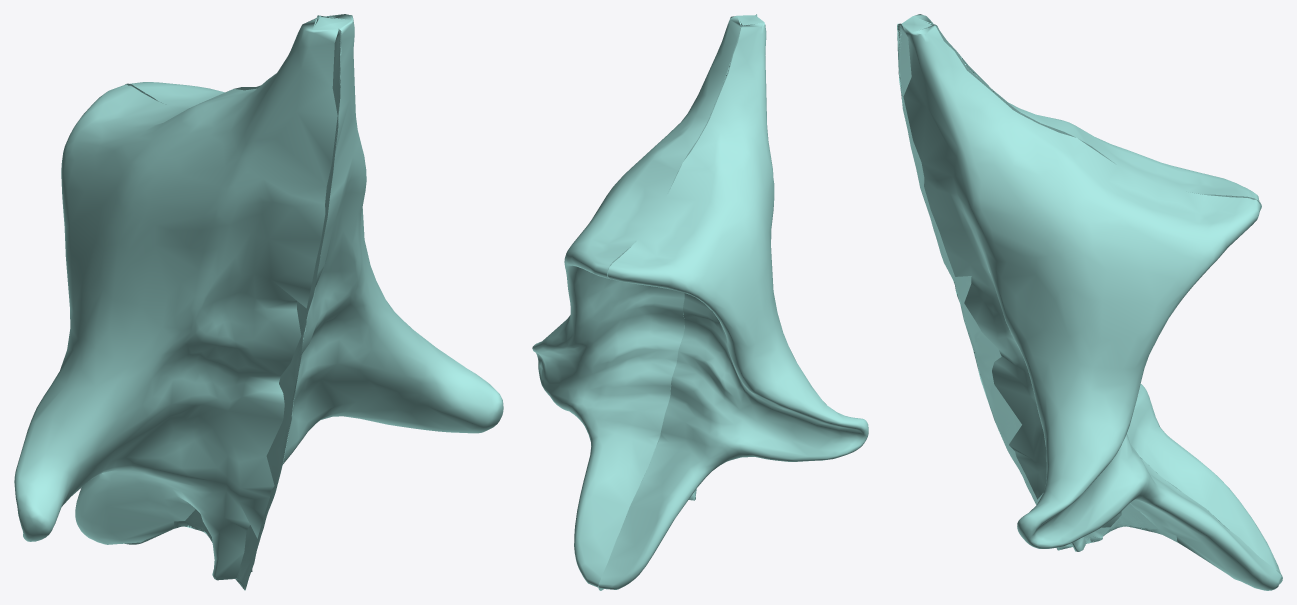
File: Fourth_ventricle.glb
The picture shows the model from 3 angles, left to right: view 1: azimuth 30°, elevation 25°; view 2: azimuth 150°, elevation 25°; view 3: azimuth 270°, elevation 25°; orthographic projection. The views are drawn at different scales.
Visible parts, largest first — view 1: Fourth_ventricle_grp1.098; view 2: Fourth_ventricle_grp1.098; view 3: Fourth_ventricle_grp1.098.
Part boxes in pixels (x1,y1,x2,y2): Fourth_ventricle_grp1.098: [14, 14, 503, 590]; Fourth_ventricle_grp1.098: [532, 14, 868, 590]; Fourth_ventricle_grp1.098: [897, 14, 1282, 590].
Size of the model in its own units: 0.0274 by 0.0366 by 0.0228.
